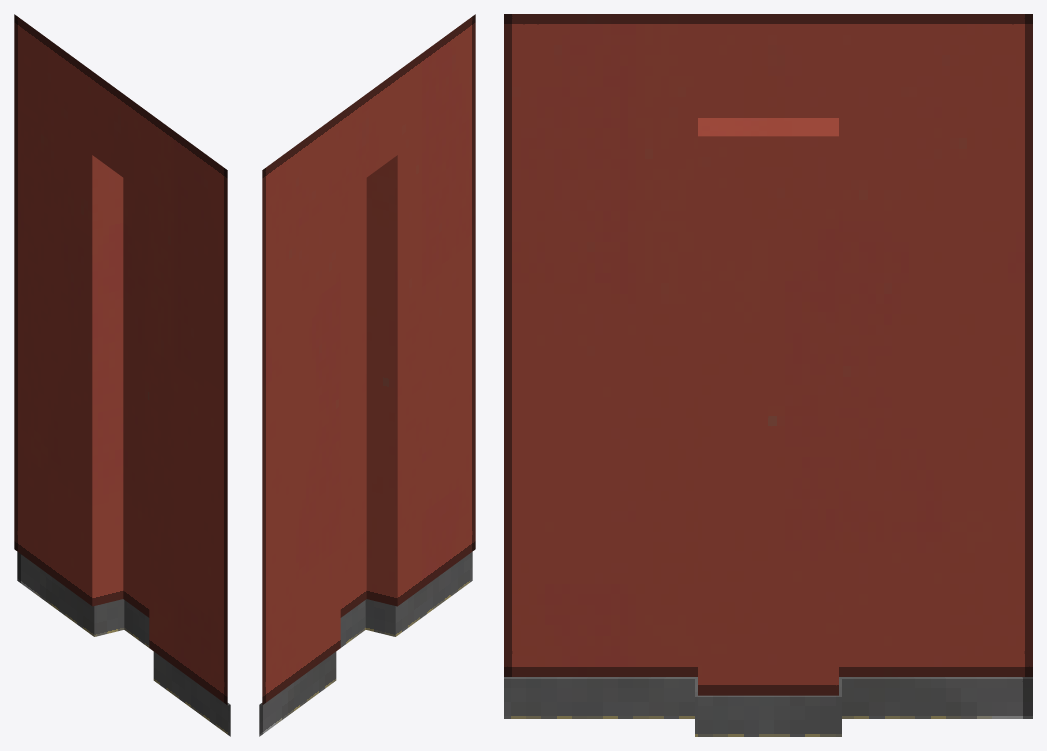
File: mesh_wall_03.FBX
3 views of the same model, side by side, from view 1: azimuth 30°, elevation 25°; view 2: azimuth 150°, elevation 25°; view 3: azimuth 270°, elevation 25° (orthographic). The views are drawn at different scales.
Parts seen in each view (by area): view 1: Object165; view 2: Object165; view 3: Object165.
Boxes of the visible parts, x1,y1,x2,y2 form: Object165: (14, 14, 230, 736); Object165: (259, 14, 475, 736); Object165: (504, 14, 1032, 736).
Bounding box in the file's own units: 0.2677 × 4.4 × 3.
